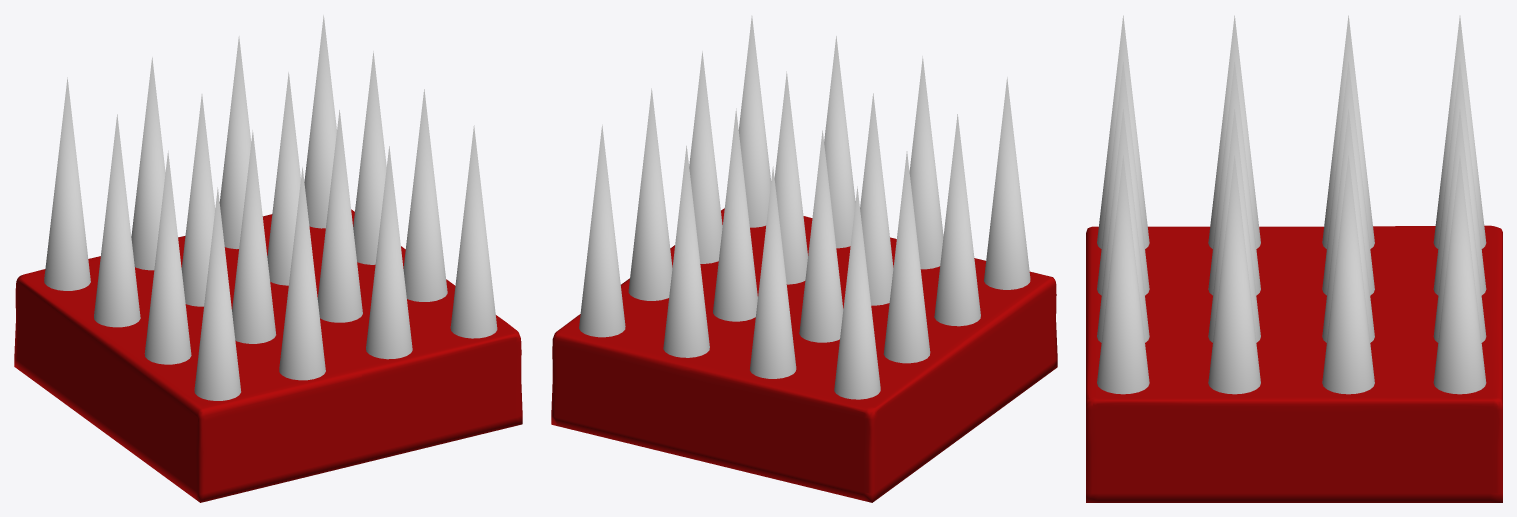
File: spike_block.fbx
3 views of the same model, side by side, from view 1: azimuth 30°, elevation 25°; view 2: azimuth 150°, elevation 25°; view 3: azimuth 270°, elevation 25° (orthographic). The views are drawn at different scales.
Visible parts, largest first — view 1: pCube3, pCone6, pCone1, pCone3, pCone9, pCone10, pCone2, pCone7, pCone8, pCone4, pCone5, pCone12 (+5 smaller); view 2: pCube3, pCone13, pCone9, pCone10, pCone16, pCone1, pCone2, pCone12, pCone15, pCone14, pCone11, pCone3 (+5 smaller); view 3: pCube3, pCone5, pCone6, pCone14, pCone13, pCone12, pCone3, pCone4, pCone11, pCone9, pCone10, pCone1 (+5 smaller).
Boxes of the visible parts, <box> form: pCube3: <box>14,209,522,502</box>; pCone6: <box>450,125,497,338</box>; pCone1: <box>144,150,191,364</box>; pCone3: <box>279,167,325,380</box>; pCone9: <box>44,77,90,290</box>; pCone10: <box>94,114,140,327</box>; pCone2: <box>194,187,241,400</box>; pCone7: <box>366,146,412,359</box>; pCone8: <box>317,110,362,322</box>; pCone4: <box>232,130,276,343</box>; pCone5: <box>403,89,447,301</box>; pCone12: <box>131,57,165,270</box>; pCube3: <box>551,208,1057,502</box>; pCone13: <box>579,124,625,337</box>; pCone9: <box>834,186,880,399</box>; pCone10: <box>883,151,930,363</box>; pCone16: <box>663,145,709,357</box>; pCone1: <box>934,114,980,326</box>; pCone2: <box>984,77,1030,289</box>; pCone12: <box>750,166,796,378</box>; pCone15: <box>713,108,757,321</box>; pCone14: <box>628,88,672,300</box>; pCone11: <box>799,130,843,342</box>; pCone3: <box>909,56,943,269</box>; pCube3: <box>1086,225,1502,502</box>; pCone5: <box>1208,155,1260,394</box>; pCone6: <box>1097,155,1149,394</box>; pCone14: <box>1322,155,1374,394</box>; pCone13: <box>1433,155,1486,394</box>; pCone12: <box>1433,62,1486,295</box>; pCone3: <box>1097,62,1149,295</box>; pCone4: <box>1208,62,1260,295</box>; pCone11: <box>1322,61,1374,295</box>; pCone9: <box>1433,15,1486,248</box>; pCone10: <box>1322,15,1374,248</box>; pCone1: <box>1208,15,1260,248</box>.
Bounding box in the file's own units: 149 × 130 × 149.
